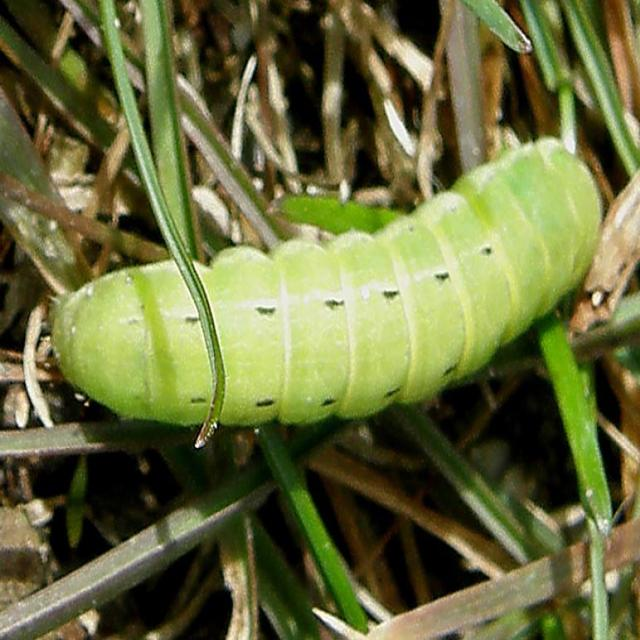worm: (51, 135, 603, 447)
